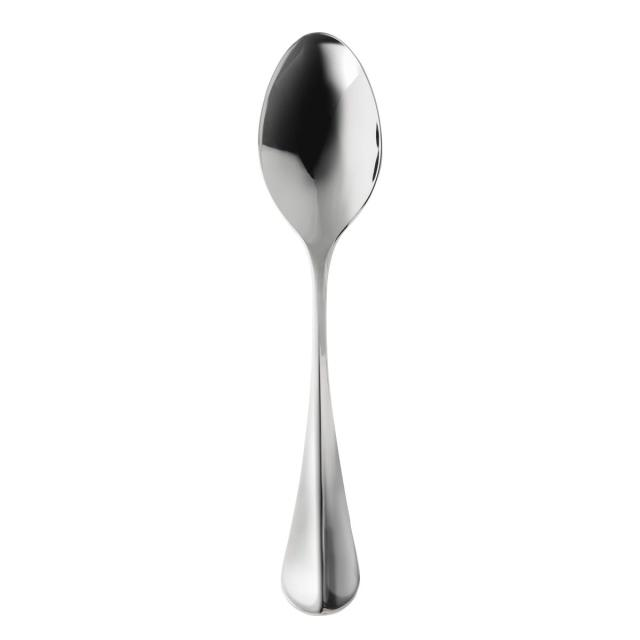spoon: (245, 28, 392, 618)
